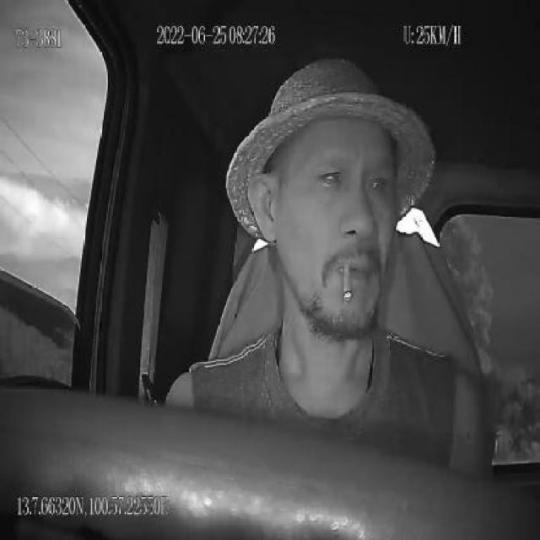smoking: (338, 258, 352, 306)
